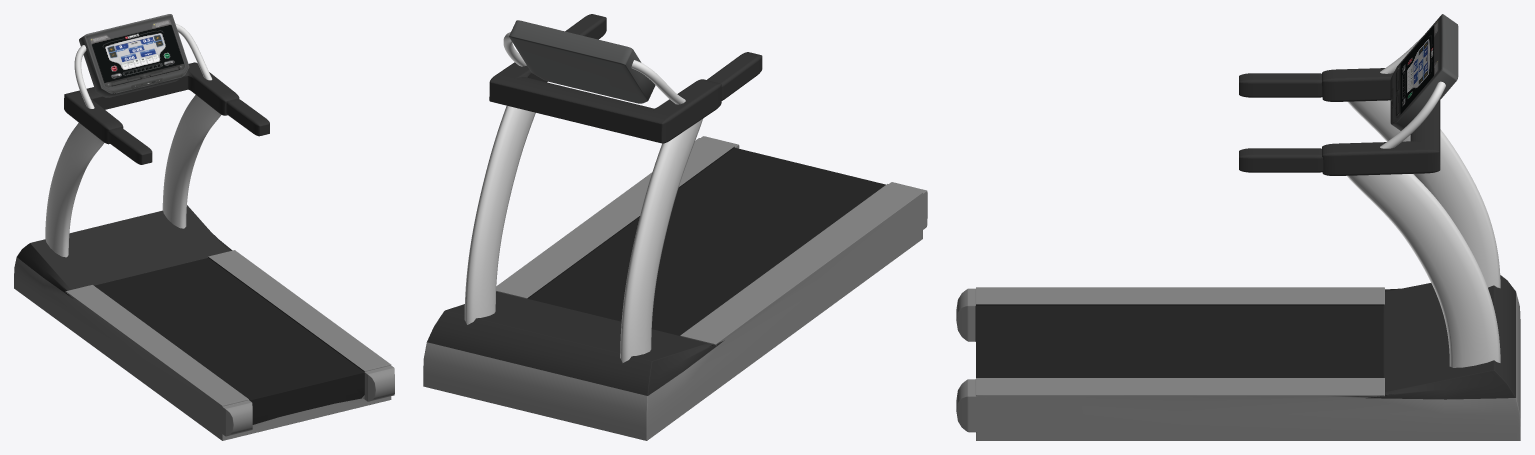
The model's file is treadmill.fbx.
3 views of the same model, side by side, from view 1: azimuth 30°, elevation 25°; view 2: azimuth 150°, elevation 25°; view 3: azimuth 270°, elevation 25° (orthographic). The views are drawn at different scales.
Parts seen in each view (by area): view 1: Cube, NurbsPath, Cube.004, Cube.002, Cube.001, NurbsPath.001; view 2: Cube, NurbsPath, Cube.002, Cube.004, Cube.001, NurbsPath.001; view 3: Cube, NurbsPath, Cube.002, Cube.004, Cube.001, NurbsPath.001.
Boxes of the visible parts, x1,y1,x2,y2 form: Cube: (14,205,394,440); NurbsPath: (45,95,221,257); Cube.004: (79,14,189,97); Cube.002: (64,62,239,144); Cube.001: (108,99,269,164); NurbsPath.001: (74,23,212,108); Cube: (423,136,927,440); NurbsPath: (464,105,703,362); Cube.002: (489,62,721,143); Cube.004: (509,20,655,103); Cube.001: (565,14,762,100); NurbsPath.001: (503,32,685,104); Cube: (956,275,1520,440); NurbsPath: (1347,100,1500,367); Cube.002: (1322,68,1440,175); Cube.004: (1390,14,1458,130); Cube.001: (1239,73,1323,172); NurbsPath.001: (1380,36,1445,148).
Bounding box in the file's own units: 303 × 450 × 664.
